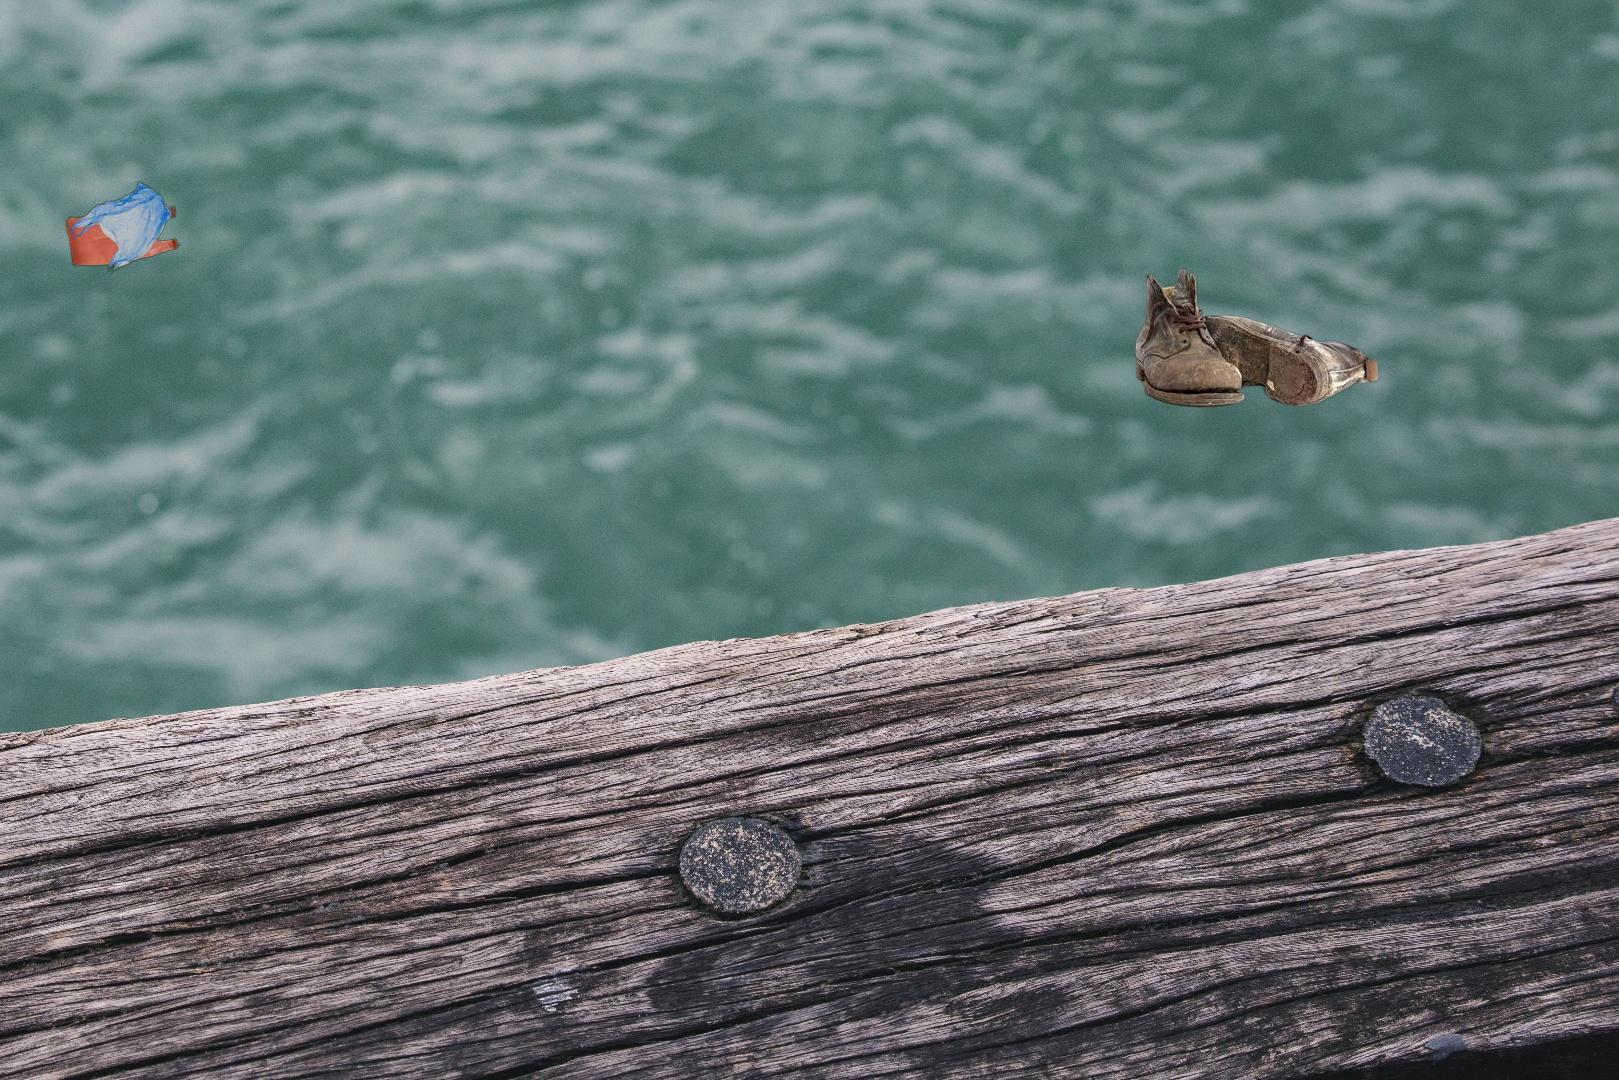plastic-bag: (61, 180, 183, 278)
shoes: (1134, 265, 1382, 410)
